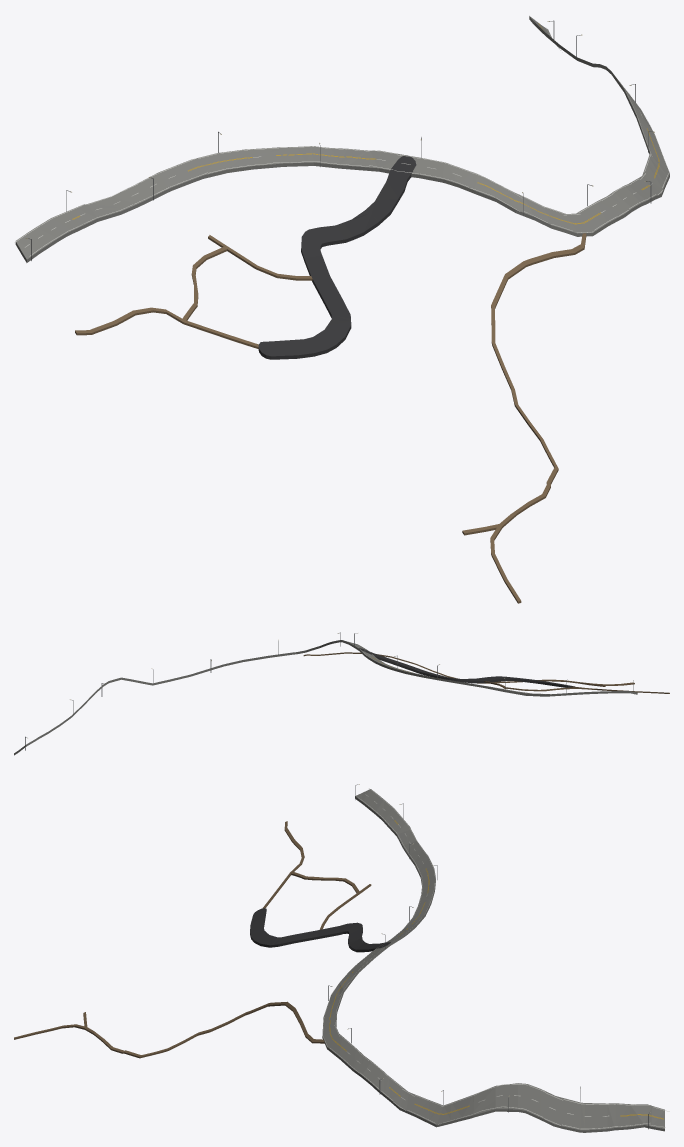
3 renders of one model, top to bottom at view 1: azimuth 30°, elevation 25°; view 2: azimuth 150°, elevation 25°; view 3: azimuth 270°, elevation 25°, orthographic. The views are drawn at different scales.
Bounding box in the file's own units: 270 × 87.11 × 294.
